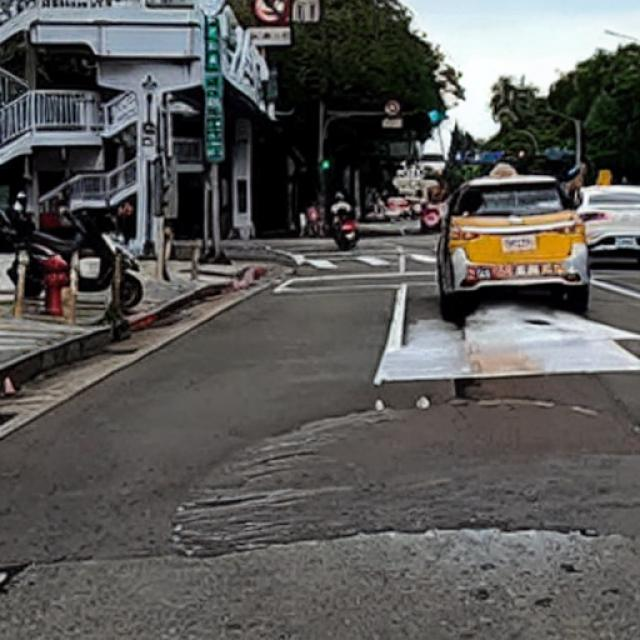puddle: (380, 306, 640, 381)
